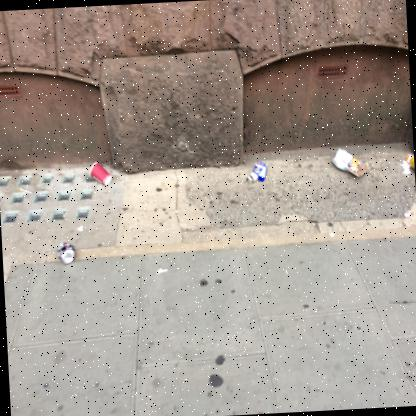Crisp packet: (331, 147, 367, 177)
Drink can: (56, 242, 74, 264)
Paper cup: (90, 161, 112, 184)
Unlabeled litter: (250, 160, 266, 181), (399, 160, 410, 174), (405, 153, 414, 169)
